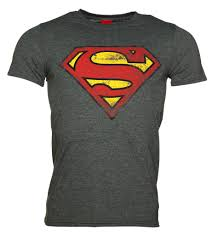T-Shirt: (7, 6, 210, 229)
